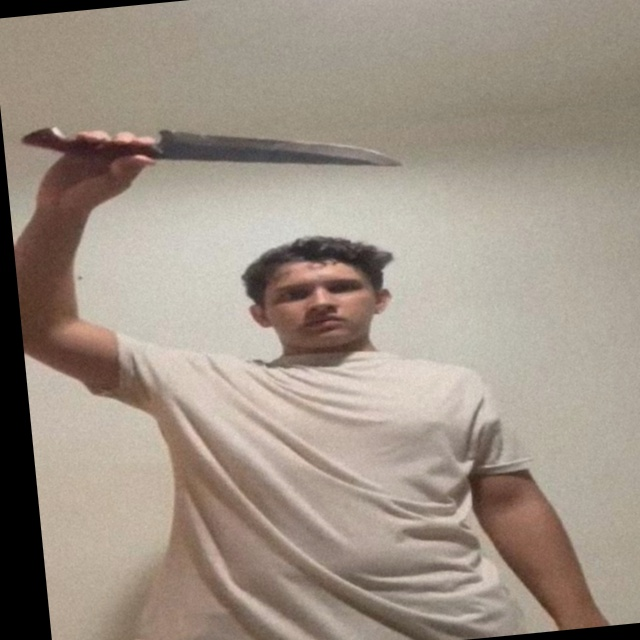Sharp-Object: (157, 107, 404, 187)
